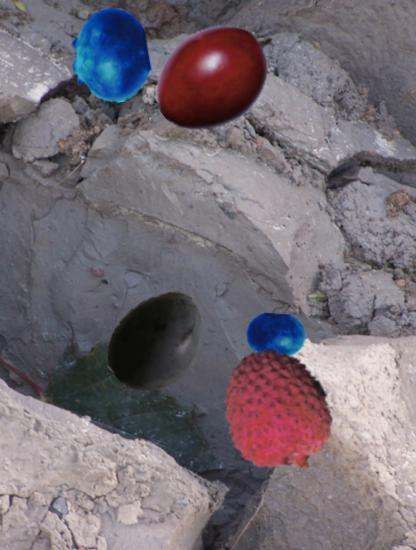Huckleberry: (62, 8, 158, 104), (246, 308, 306, 368)
Lychee: (211, 347, 343, 479)
Plum: (104, 287, 214, 397)
Tamarillo: (150, 7, 287, 144)
